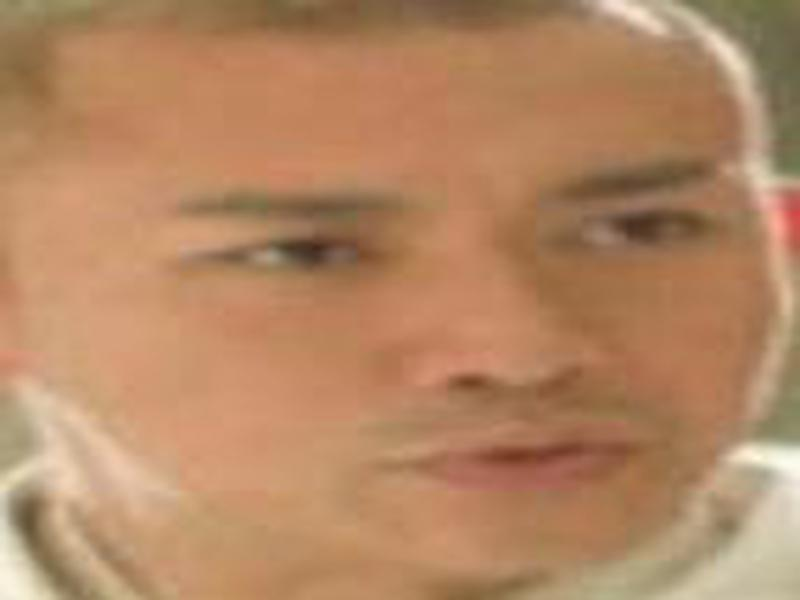without_mask: (51, 44, 785, 574)
